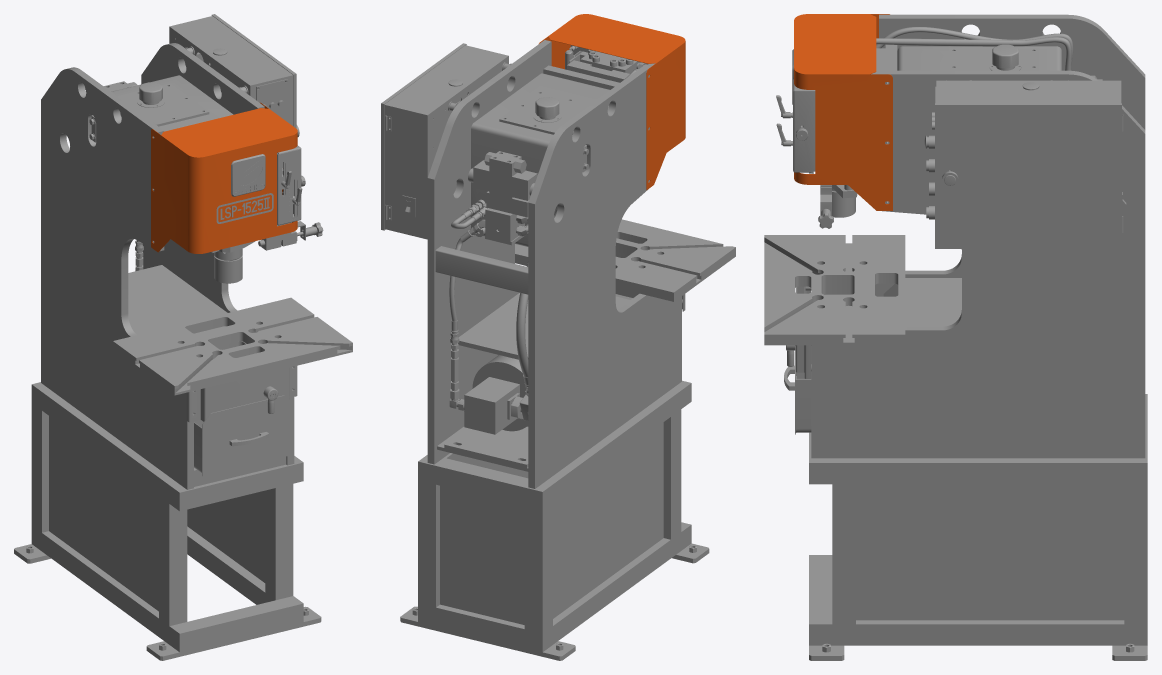
Rendered from lsp1525ii_webar_2.glb.
3 views of the same model, side by side, from view 1: azimuth 30°, elevation 25°; view 2: azimuth 150°, elevation 25°; view 3: azimuth 270°, elevation 25° (orthographic). The views are drawn at different scales.
Parts seen in each view (by area): view 1: ＬＳＰ１５２５－２組立図; view 2: ＬＳＰ１５２５－２組立図; view 3: ＬＳＰ１５２５－２組立図.
Boxes of the visible parts, bbox=[...] form: ＬＳＰ１５２５－２組立図: bbox=[14, 14, 352, 660]; ＬＳＰ１５２５－２組立図: bbox=[381, 14, 735, 660]; ＬＳＰ１５２５－２組立図: bbox=[764, 14, 1147, 660].
Bounding box in the file's own units: 5.7 × 13.43 × 8.15.
